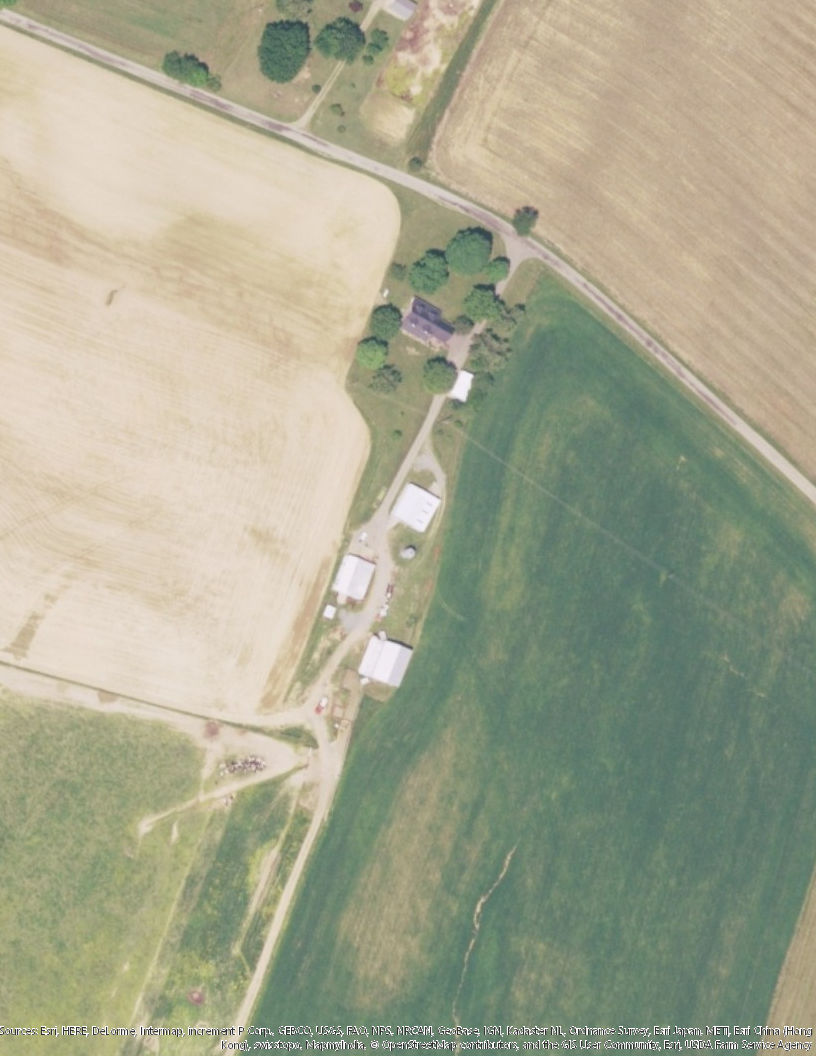cafo: (355, 632, 419, 690), (328, 551, 381, 608)
